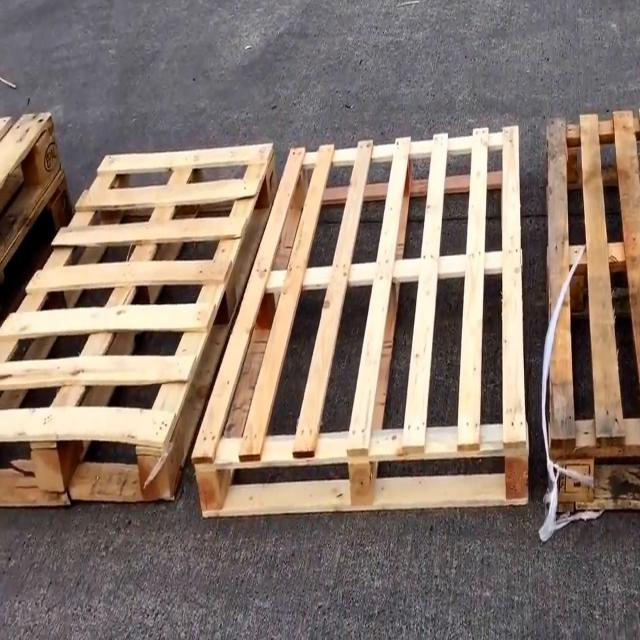Palette: (186, 112, 532, 518), (0, 133, 280, 513), (541, 102, 640, 522), (0, 105, 70, 320)
